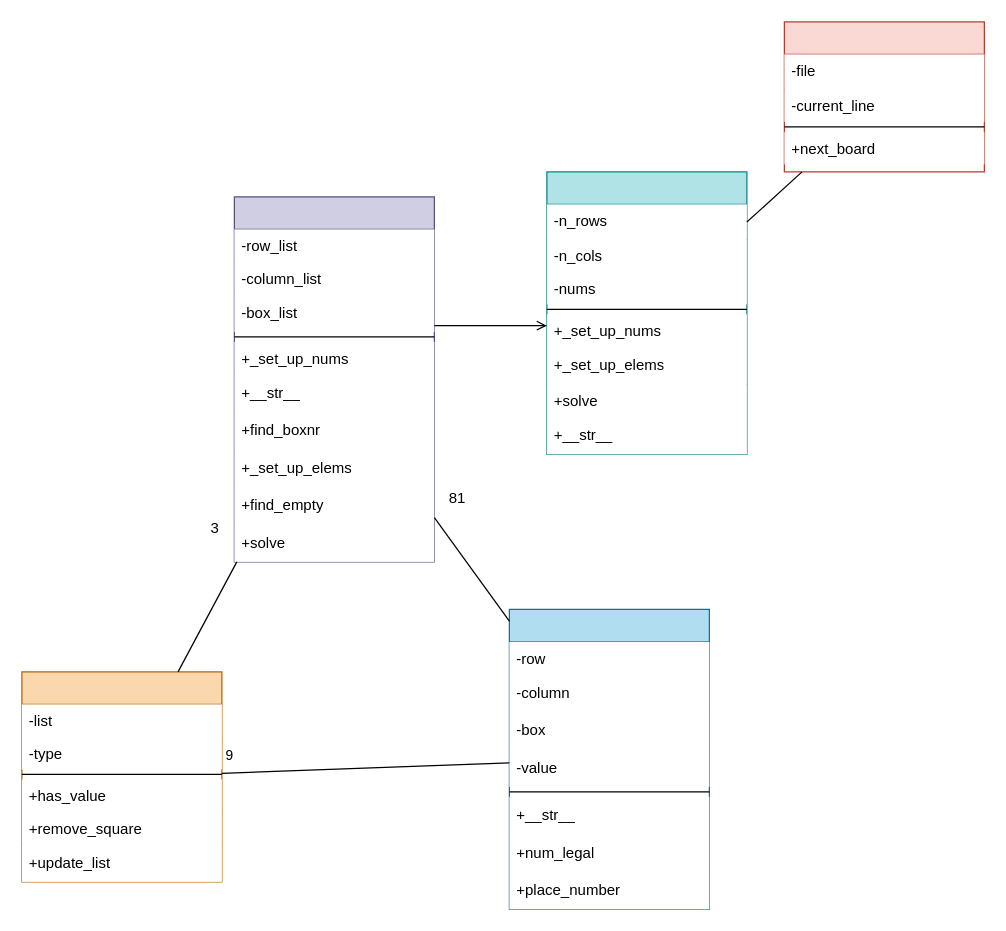
Some shapes in this 1006 by 931 pixel diagram are drawn without their labels. The shapes that lost their labels are listed below. From the top down, each one's box as (x1, y1, x2, y2) in pixels, then its label:
(783, 21, 984, 172): Sudoku_reader
(546, 171, 747, 454): Board
(233, 196, 434, 562): SudokuBoard(Board)
(21, 671, 222, 882): Element
(508, 608, 709, 909): Square
